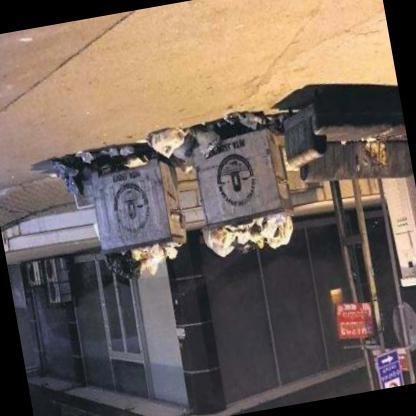Garbage: (84, 118, 221, 171), (200, 214, 298, 270), (96, 237, 188, 290), (222, 106, 276, 132), (52, 156, 84, 199)
